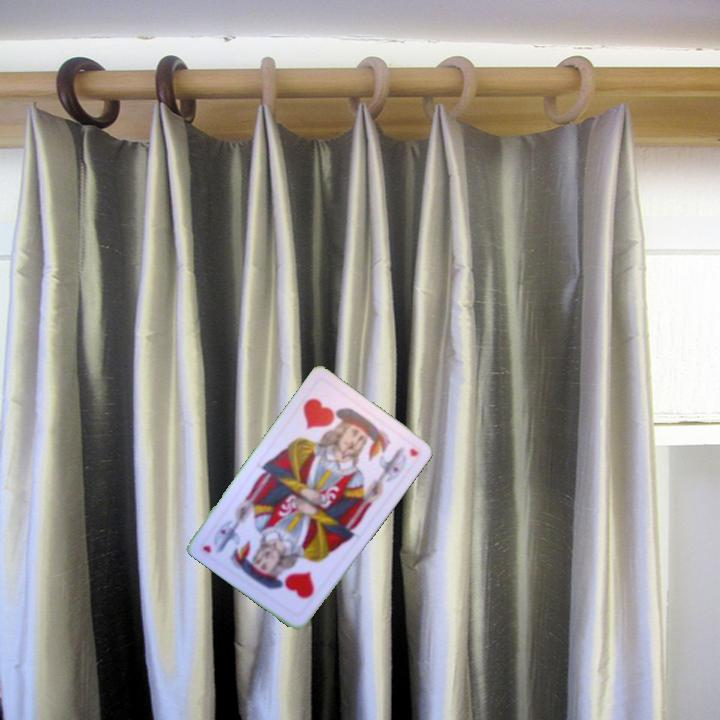h_j.png: (246, 537, 332, 621), (287, 377, 373, 461)
